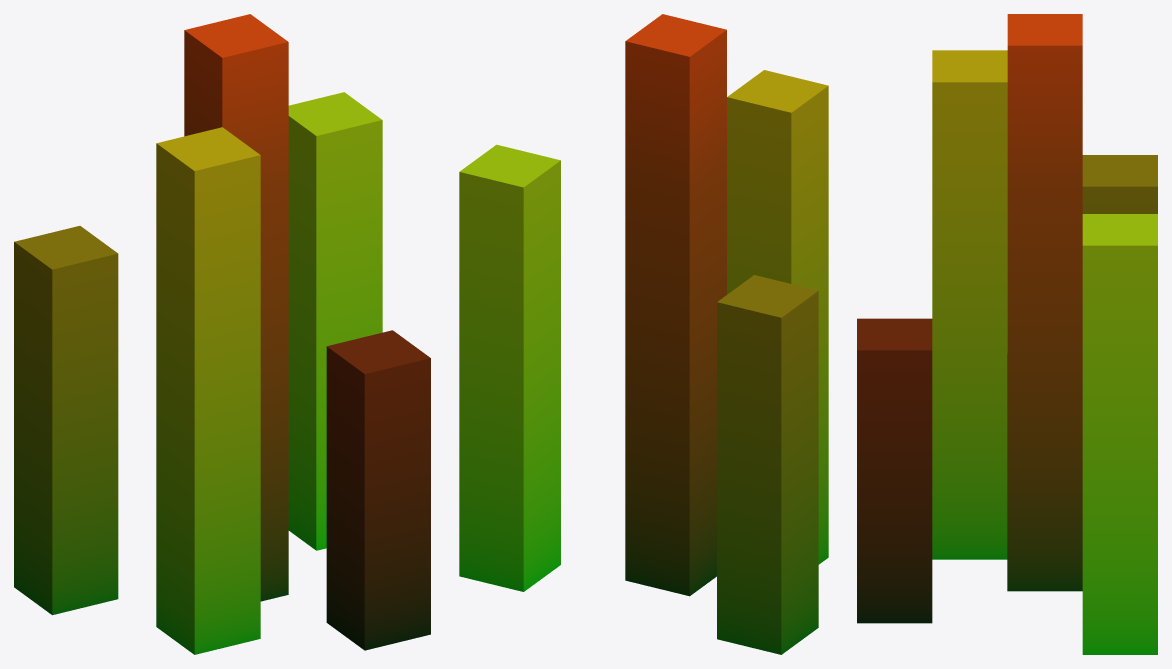
The model's file is prop_grass_tuft_voxel_a_carpet.fbx.
The picture shows the model from 3 angles, left to right: view 1: azimuth 30°, elevation 25°; view 2: azimuth 150°, elevation 25°; view 3: azimuth 270°, elevation 25°; orthographic projection. The views are drawn at different scales.
Parts seen in each view (by area): view 1: prop_grass_tuft_voxel_a_carpet; view 2: prop_grass_tuft_voxel_a_carpet; view 3: prop_grass_tuft_voxel_a_carpet.
Boxes of the visible parts, x1,y1,x2,y2 form: prop_grass_tuft_voxel_a_carpet: (14, 14, 430, 654); prop_grass_tuft_voxel_a_carpet: (459, 14, 828, 654); prop_grass_tuft_voxel_a_carpet: (857, 14, 1157, 654).
Size of the model in its own units: 0.3125 by 0.5 by 0.25.
